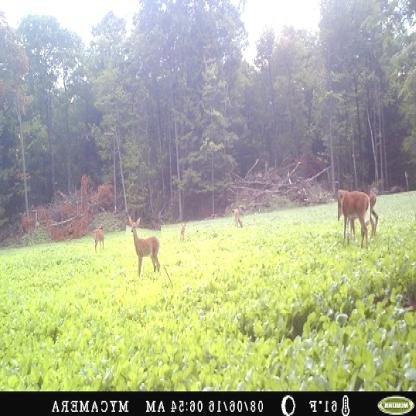Deer: (126, 212, 161, 280), (337, 189, 379, 243), (338, 188, 370, 251), (93, 221, 106, 255), (232, 207, 244, 231), (180, 221, 186, 243)
